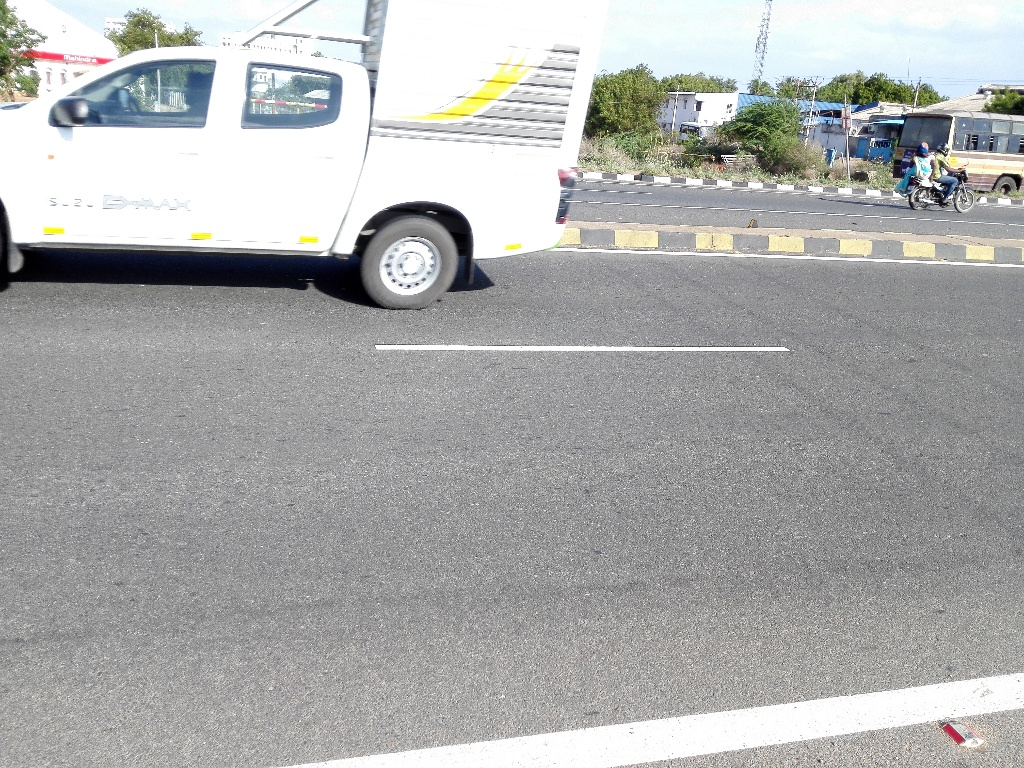biker: (900, 129, 983, 216)
helmet: (932, 139, 954, 159)
nohelmet: (914, 137, 933, 161)
